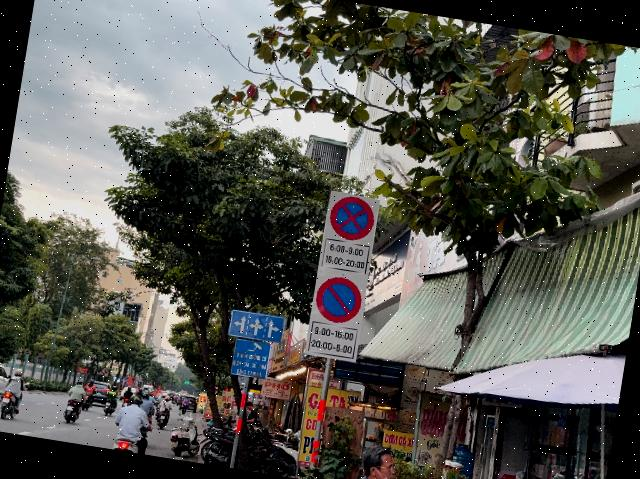cam-do-xe: (312, 274, 365, 326)
cam-dung-va-do-xe: (326, 193, 376, 243)
